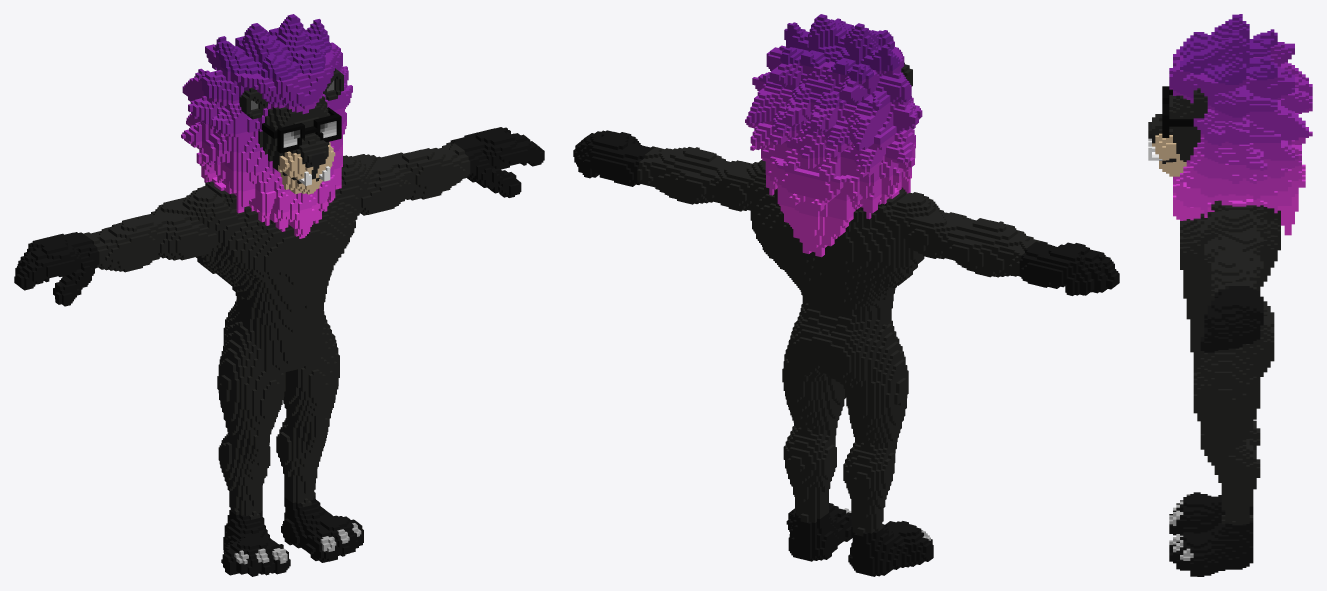
File: 282-CHnlz87t.glb
3 views of the same model, side by side, from view 1: azimuth 30°, elevation 25°; view 2: azimuth 150°, elevation 25°; view 3: azimuth 270°, elevation 25° (orthographic). The views are drawn at different scales.
Parts seen in each view (by area): view 1: ork; view 2: ork; view 3: ork.
Boxes of the visible parts, <box> form: ork: <box>14,14,544,576</box>; ork: <box>573,14,1119,576</box>; ork: <box>1148,14,1312,576</box>.
Bounding box in the file's own units: 17.2 × 16.5 × 4.7.
4 materials, 4 textured.
